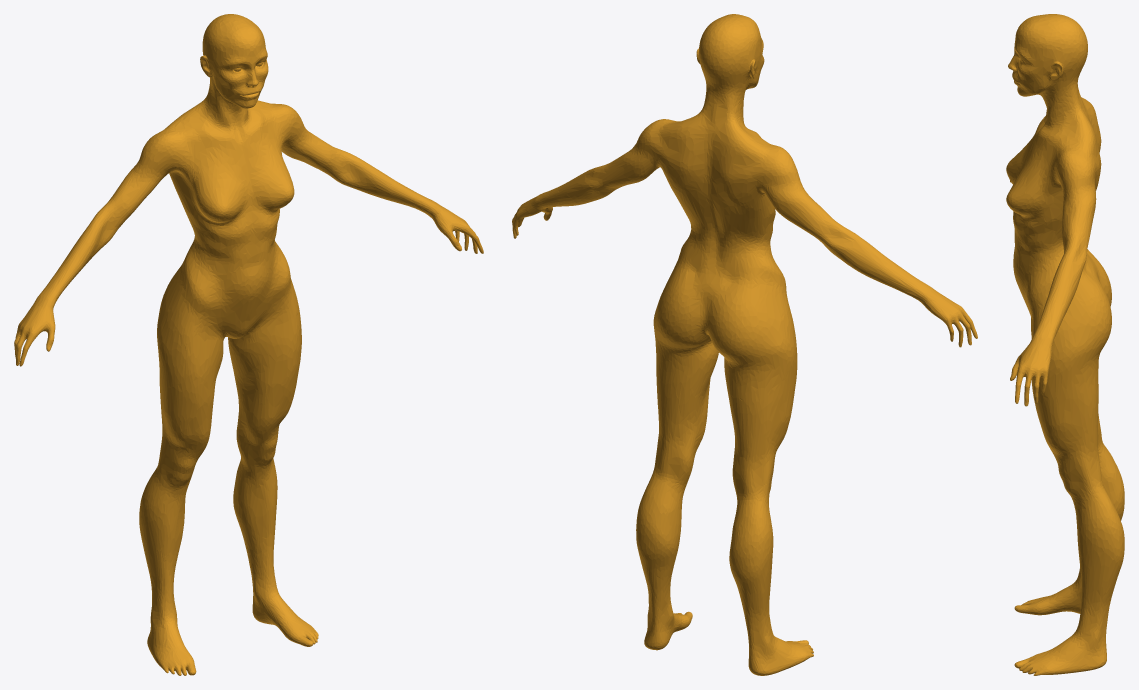
The model's file is woman.glb.
The picture shows the model from 3 angles, left to right: view 1: azimuth 30°, elevation 25°; view 2: azimuth 150°, elevation 25°; view 3: azimuth 270°, elevation 25°; orthographic projection.
Size of the model in its own units: 1.31 by 1.7 by 0.292.
